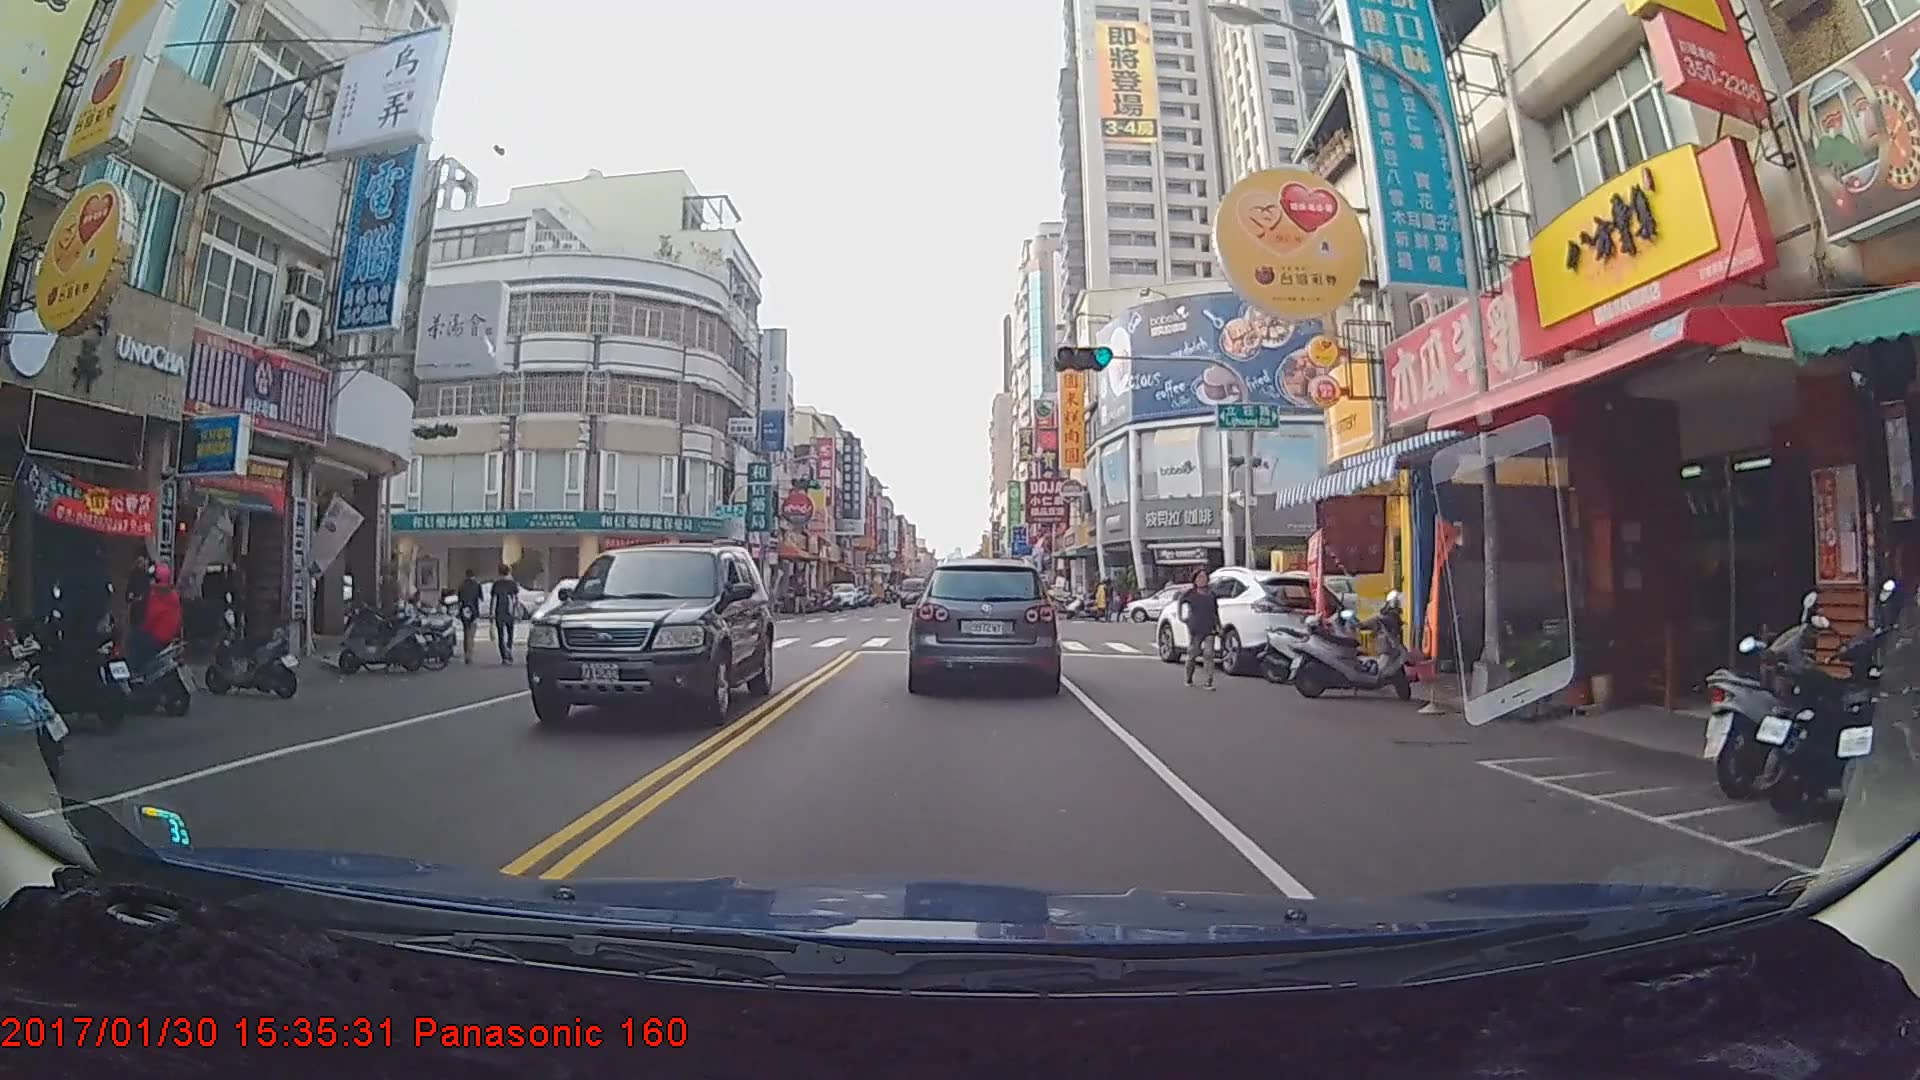pedestrian: (118, 543, 169, 682), (1181, 569, 1222, 691), (484, 562, 525, 660), (457, 569, 484, 667)
rider: (79, 561, 198, 718)
vehicle: (521, 542, 773, 728), (1154, 569, 1357, 675), (907, 557, 1058, 692), (1120, 583, 1236, 624), (825, 578, 859, 608), (898, 576, 929, 607)
